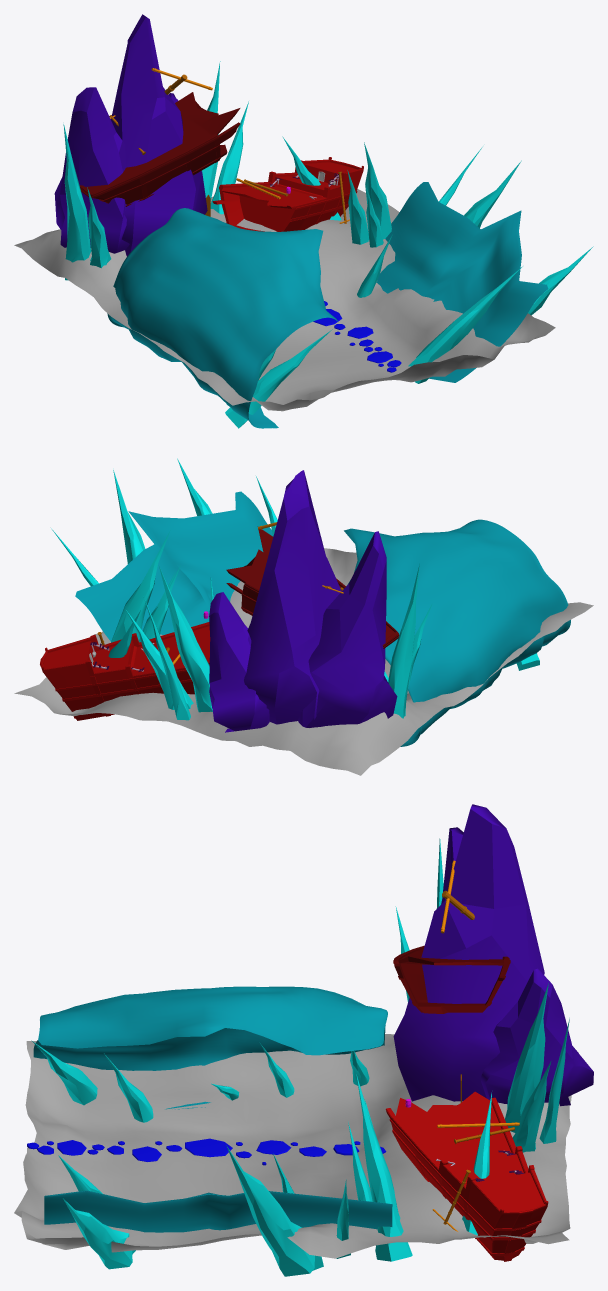
The model's file is TutorialTerrainMesh.fbx.
The picture shows the model from 3 angles, top to bottom: view 1: azimuth 30°, elevation 25°; view 2: azimuth 150°, elevation 25°; view 3: azimuth 270°, elevation 25°; orthographic projection. The views are drawn at different scales.
Parts seen in each view (by area): view 1: sweep1, pPlane1, pCube111, pCube32, pCube112, pCube33, IceSpike1, IceSpike17, IceSpike16, IceSpike3, IceSpike8, IceSpike (+6 smaller); view 2: sweep1, pCube111, pPlane1, pCube112, pCube32, pCube113, IceSpike2, IceSpike1, pCube33, IceSpike8, IceSpike4, IceSpike3 (+3 smaller); view 3: pPlane1, sweep1, pCube111, pCube32, pCube113, IceSpike12, pCube33, IceSpike8, IceSpike2, IceSpike6, IceSpike3, IceSpike16 (+6 smaller).
Part boxes in pixels (x1,y1,x2,y2): sweep1: (107,182,548,428); pPlane1: (14,189,555,411); pCube111: (110,14,207,256); pCube32: (212,157,363,231); pCube112: (54,87,129,253); pCube33: (79,92,240,206); IceSpike1: (63,124,91,280); IceSpike17: (408,266,522,383); IceSpike16: (225,329,332,428); IceSpike3: (210,101,248,214); IceSpike8: (364,142,391,239); IceSpike: (87,187,111,268); sweep1: (75,491,570,746); pCube111: (244,470,341,724); pPlane1: (14,548,593,775); pCube112: (298,531,397,727); pCube32: (40,622,210,720); pCube113: (209,592,269,732); IceSpike2: (159,566,212,712); IceSpike1: (388,563,419,718); pCube33: (226,526,399,648); IceSpike8: (111,530,170,642); IceSpike4: (144,598,190,720); IceSpike3: (125,609,193,709); pPlane1: (14,1034,571,1258); sweep1: (33,986,392,1232); pCube111: (393,804,544,1101); pCube32: (385,1091,548,1261); pCube113: (481,968,593,1106); IceSpike12: (226,1145,314,1276); pCube33: (393,945,510,1013); IceSpike8: (356,1074,412,1261); IceSpike2: (505,983,548,1132); IceSpike6: (63,1198,132,1269); IceSpike3: (512,1061,551,1152); IceSpike16: (31,1040,97,1105).
Size of the model in its own units: 2062 by 1568 by 2167.
